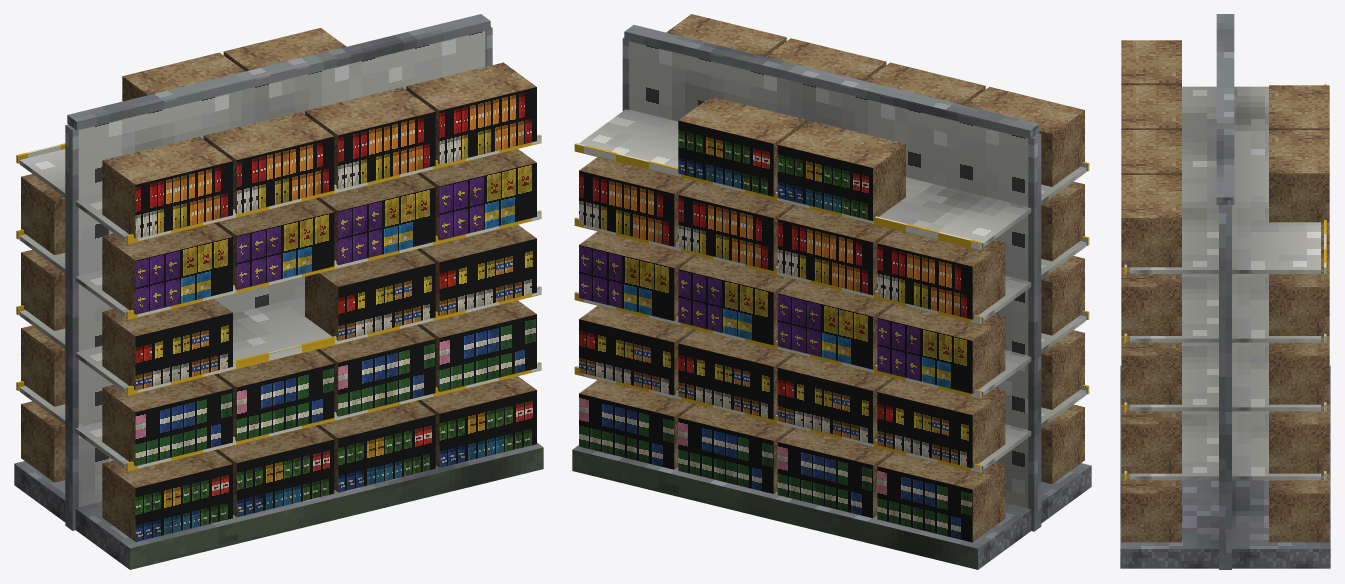
File: gondola_market.glb
3 views of the same model, side by side, from view 1: azimuth 30°, elevation 25°; view 2: azimuth 150°, elevation 25°; view 3: azimuth 270°, elevation 25° (orthographic). The views are drawn at different scales.
Visible parts, largest first — view 1: gondola_market; view 2: gondola_market; view 3: gondola_market.
Part boxes in pixels (left/top/right/bottom): gondola_market: left=14, top=14, right=543, bottom=569; gondola_market: left=572, top=14, right=1091, bottom=569; gondola_market: left=1120, top=14, right=1330, bottom=569.
Bounding box in the file's own units: 2.03 × 1.89 × 0.97.
1 material, 1 textured.
